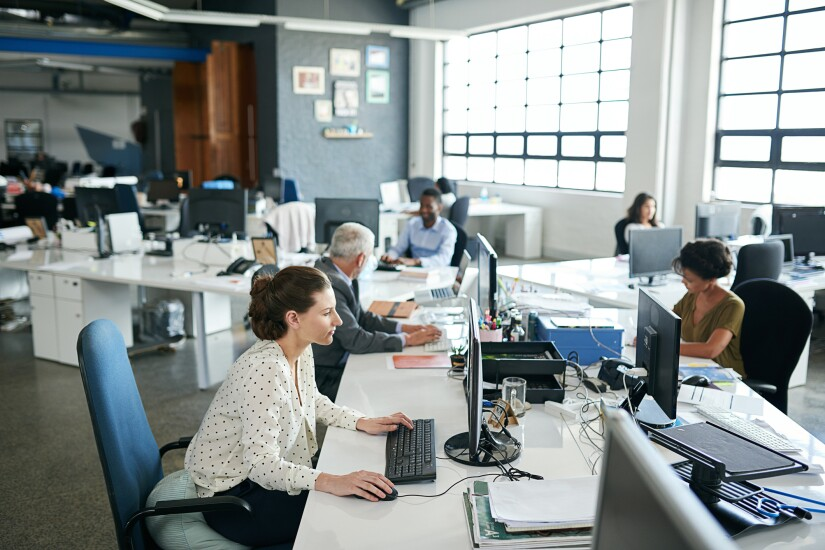person: (184, 266, 417, 548), (311, 220, 446, 382), (628, 239, 749, 379), (379, 188, 458, 270), (614, 191, 663, 264)
